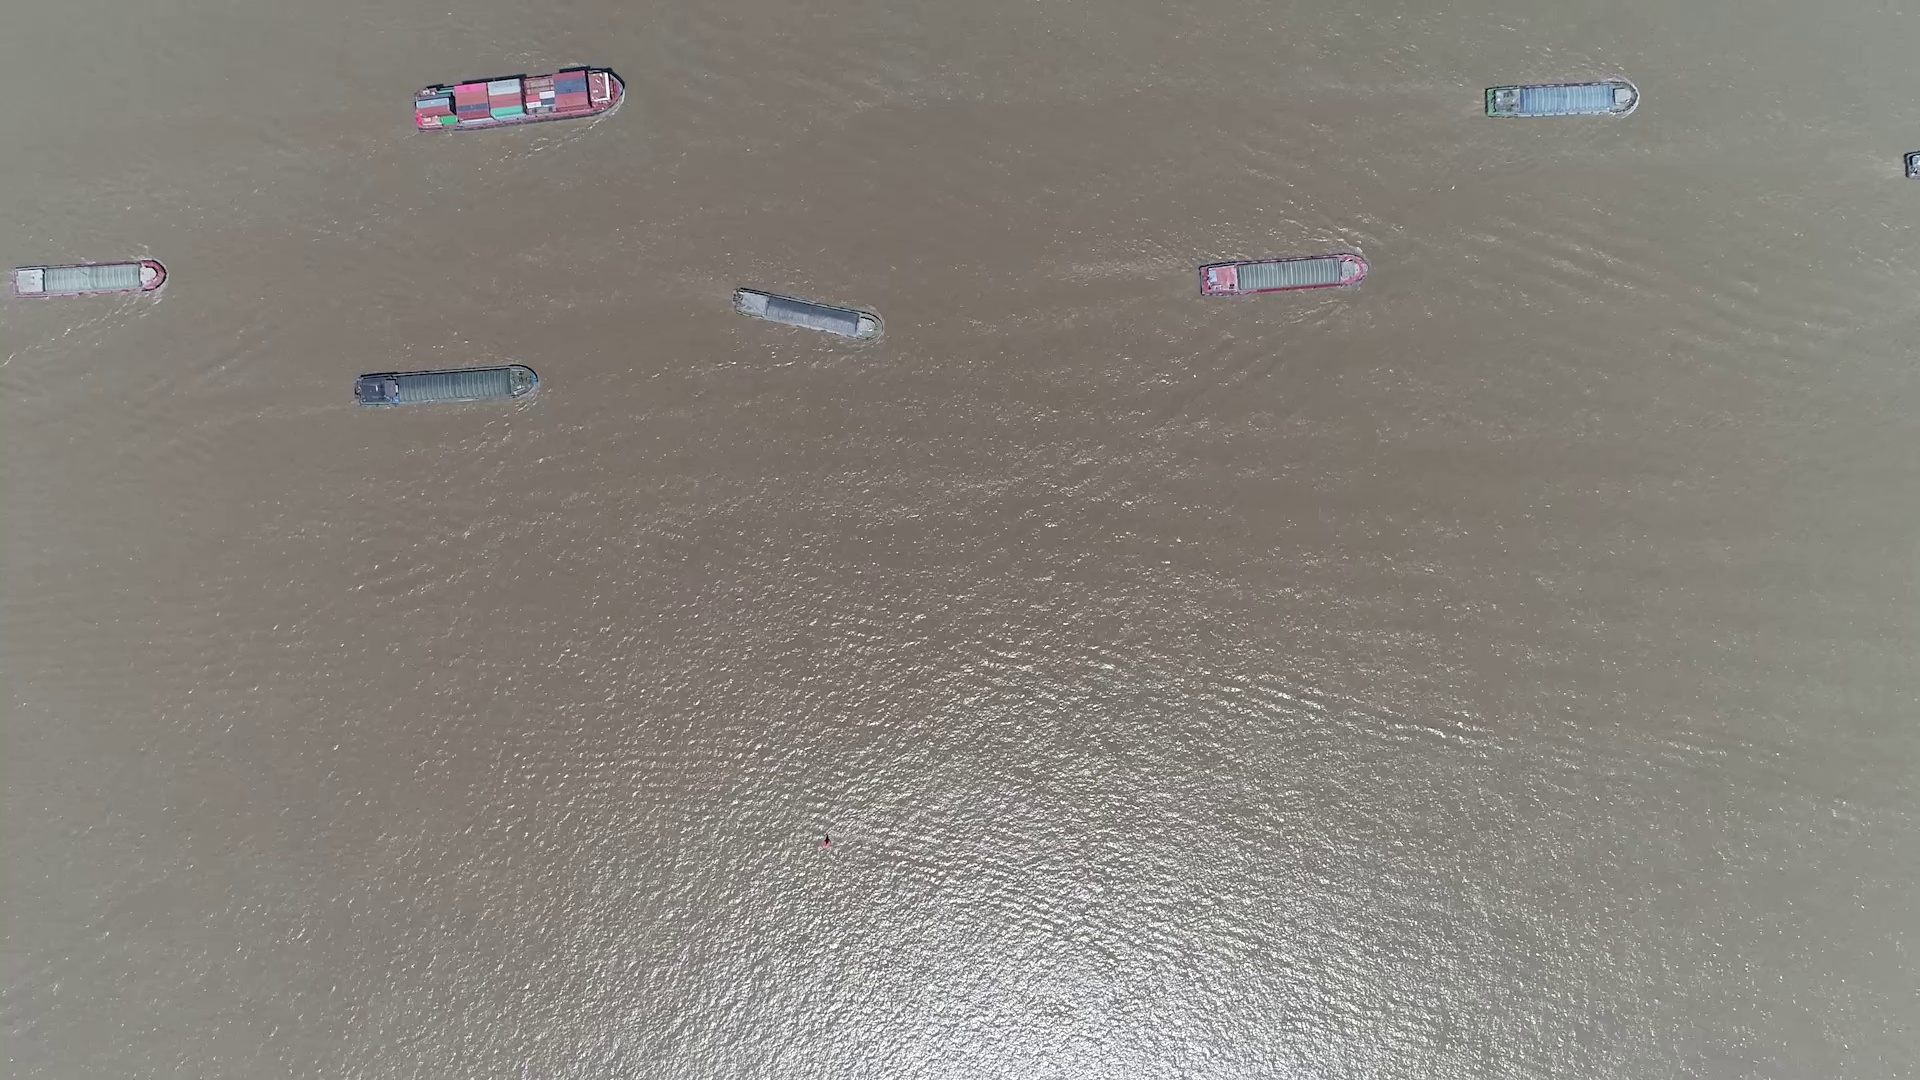ship: (414, 69, 625, 131), (731, 287, 881, 342), (353, 365, 537, 407), (1197, 252, 1369, 295), (1486, 82, 1638, 117), (12, 260, 166, 294)
